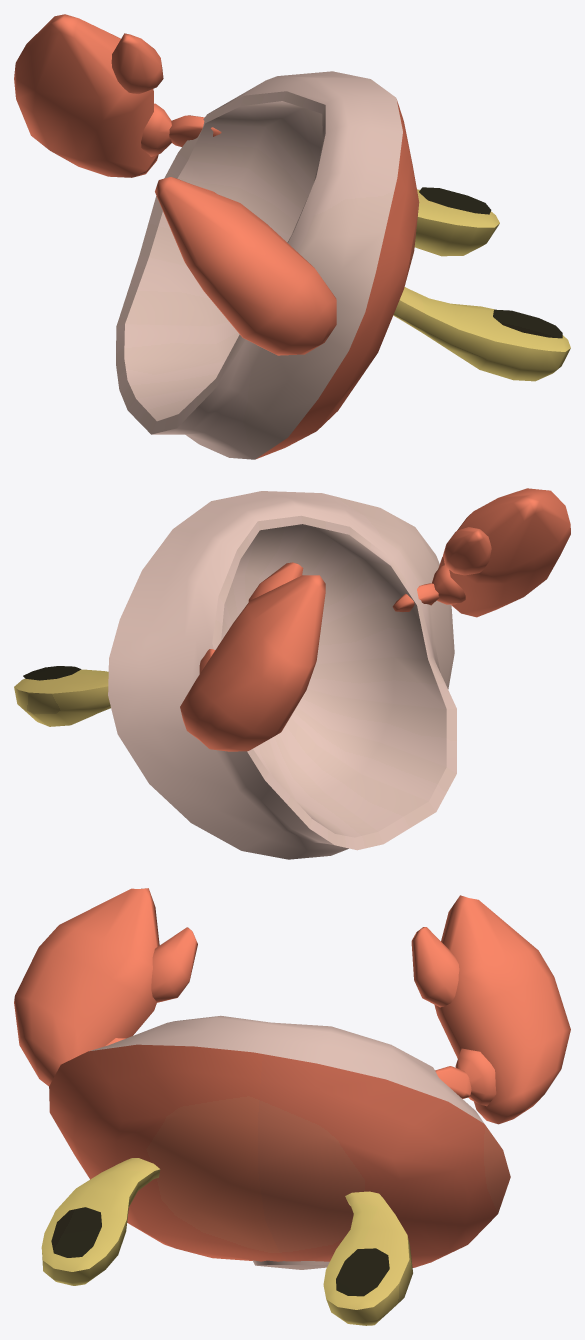
File: CrabbyHat.fbx
3 views of the same model, one above another, from view 1: azimuth 30°, elevation 25°; view 2: azimuth 150°, elevation 25°; view 3: azimuth 270°, elevation 25° (orthographic). The views are drawn at different scales.
Parts seen in each view (by area): view 1: Cosmetic_Hat_CrabbyHat_LOD0; view 2: Cosmetic_Hat_CrabbyHat_LOD0; view 3: Cosmetic_Hat_CrabbyHat_LOD0.
Boxes of the visible parts, left/top/right/bottom form: Cosmetic_Hat_CrabbyHat_LOD0: left=14, top=14, right=570, bottom=459; Cosmetic_Hat_CrabbyHat_LOD0: left=14, top=488, right=570, bottom=859; Cosmetic_Hat_CrabbyHat_LOD0: left=14, top=888, right=570, bottom=1325.
Bounding box in the file's own units: 0.505 × 0.3451 × 0.4539.
1 material, 1 textured.
